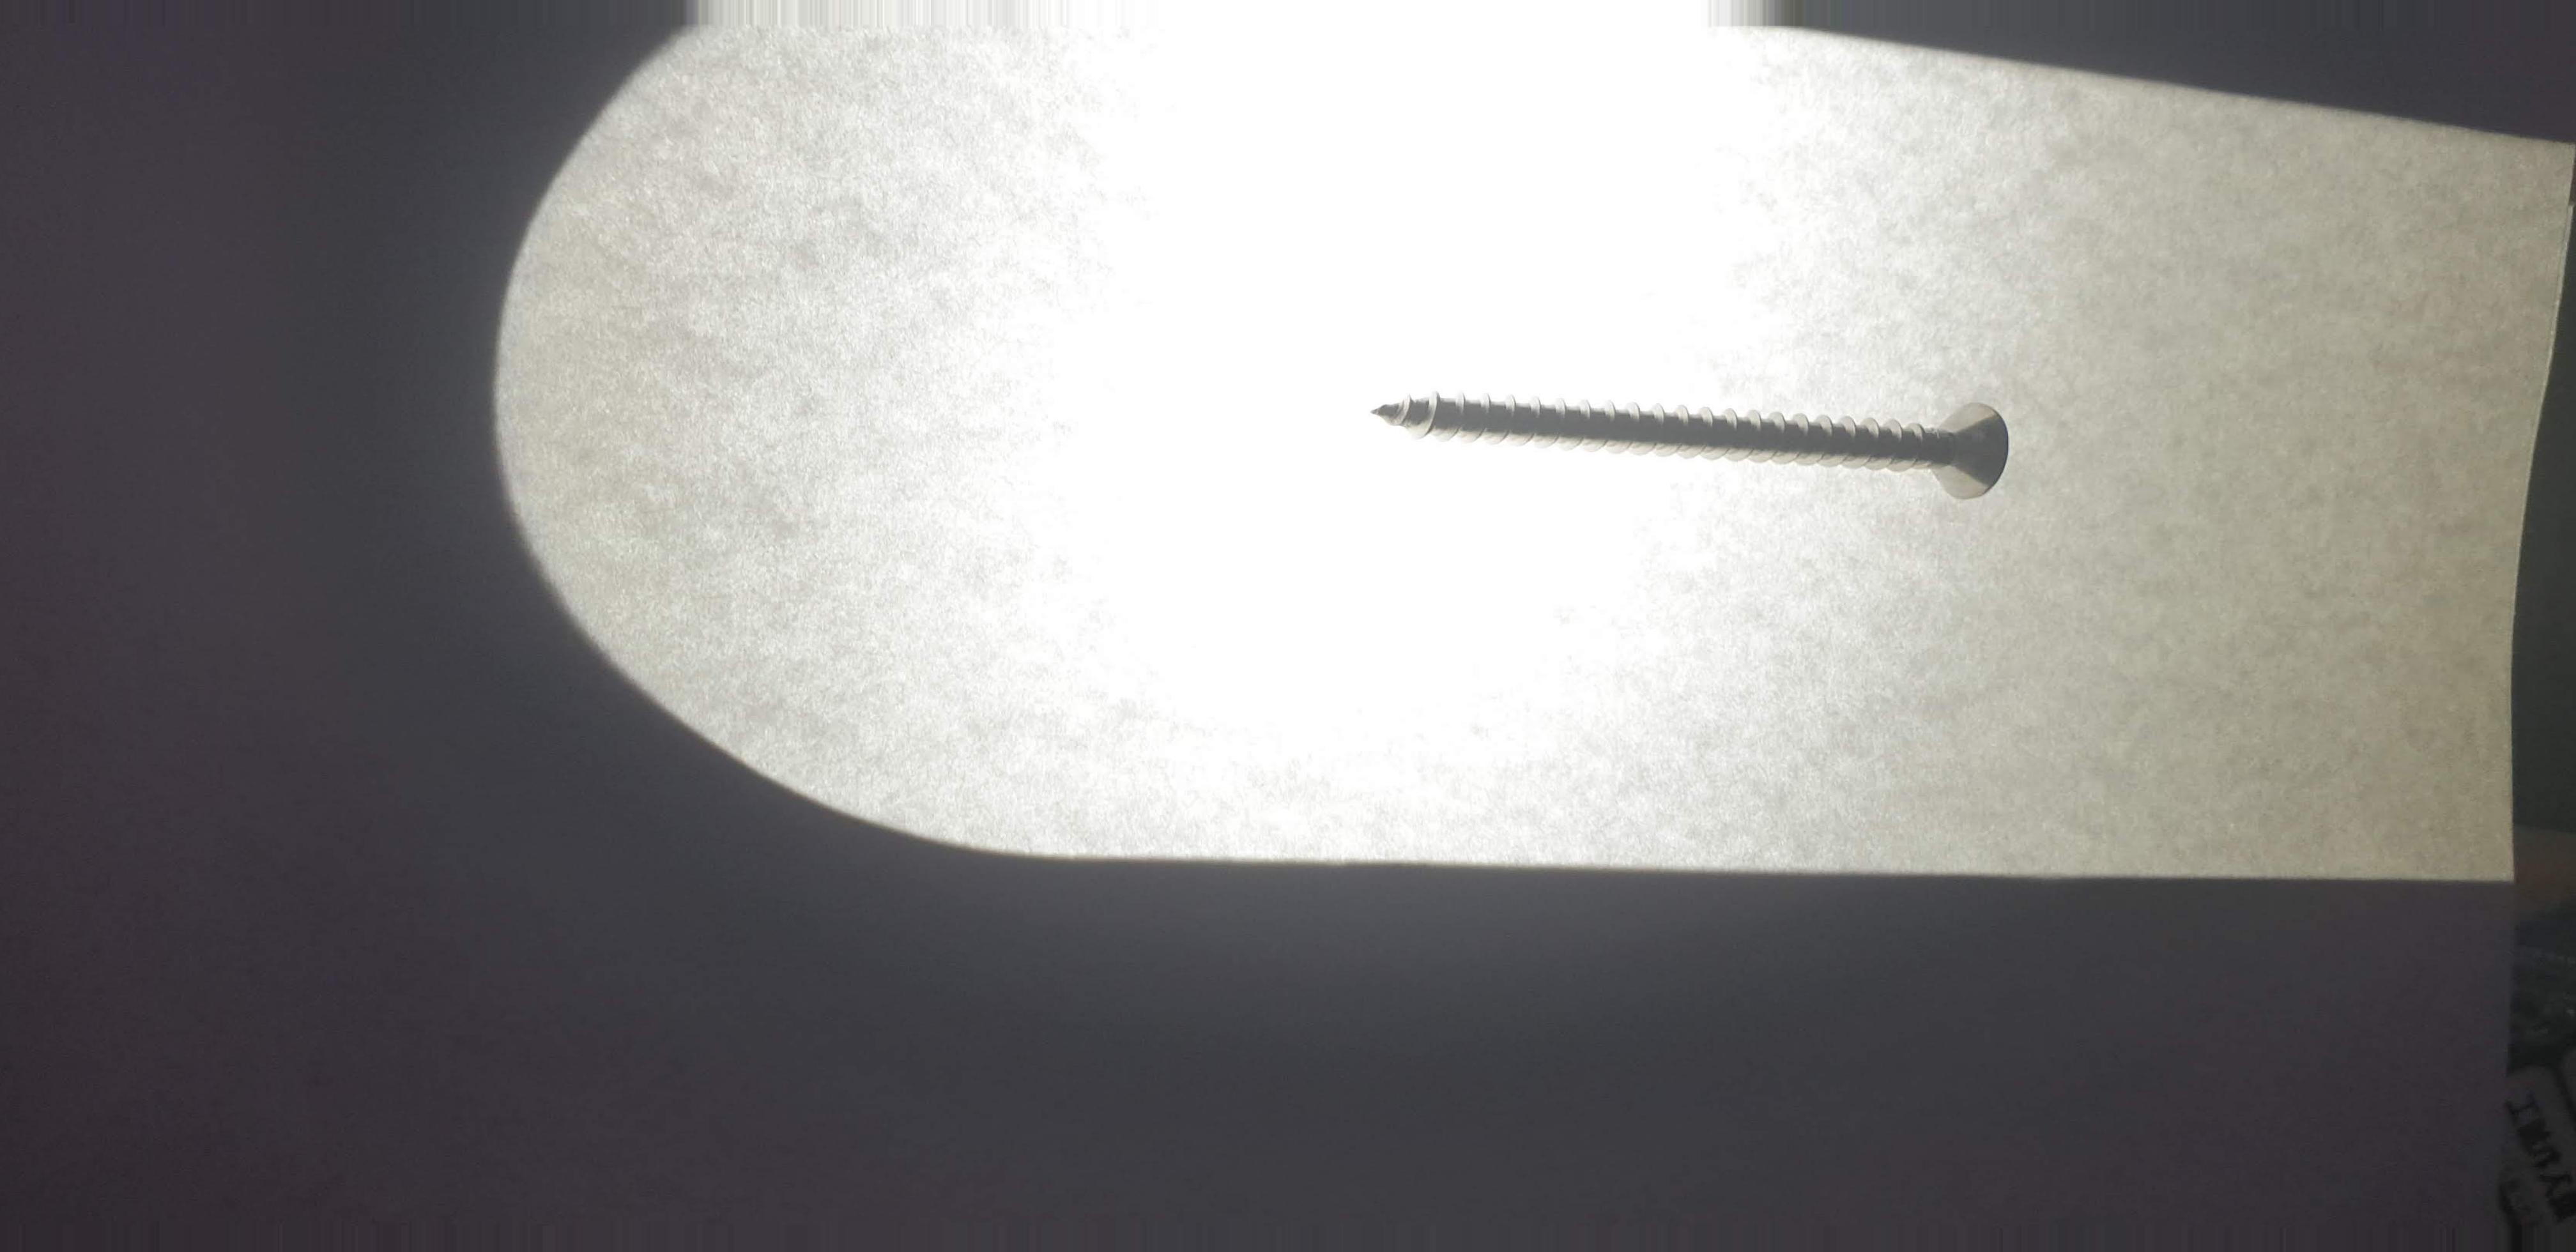S001: (1332, 343, 2065, 552)
